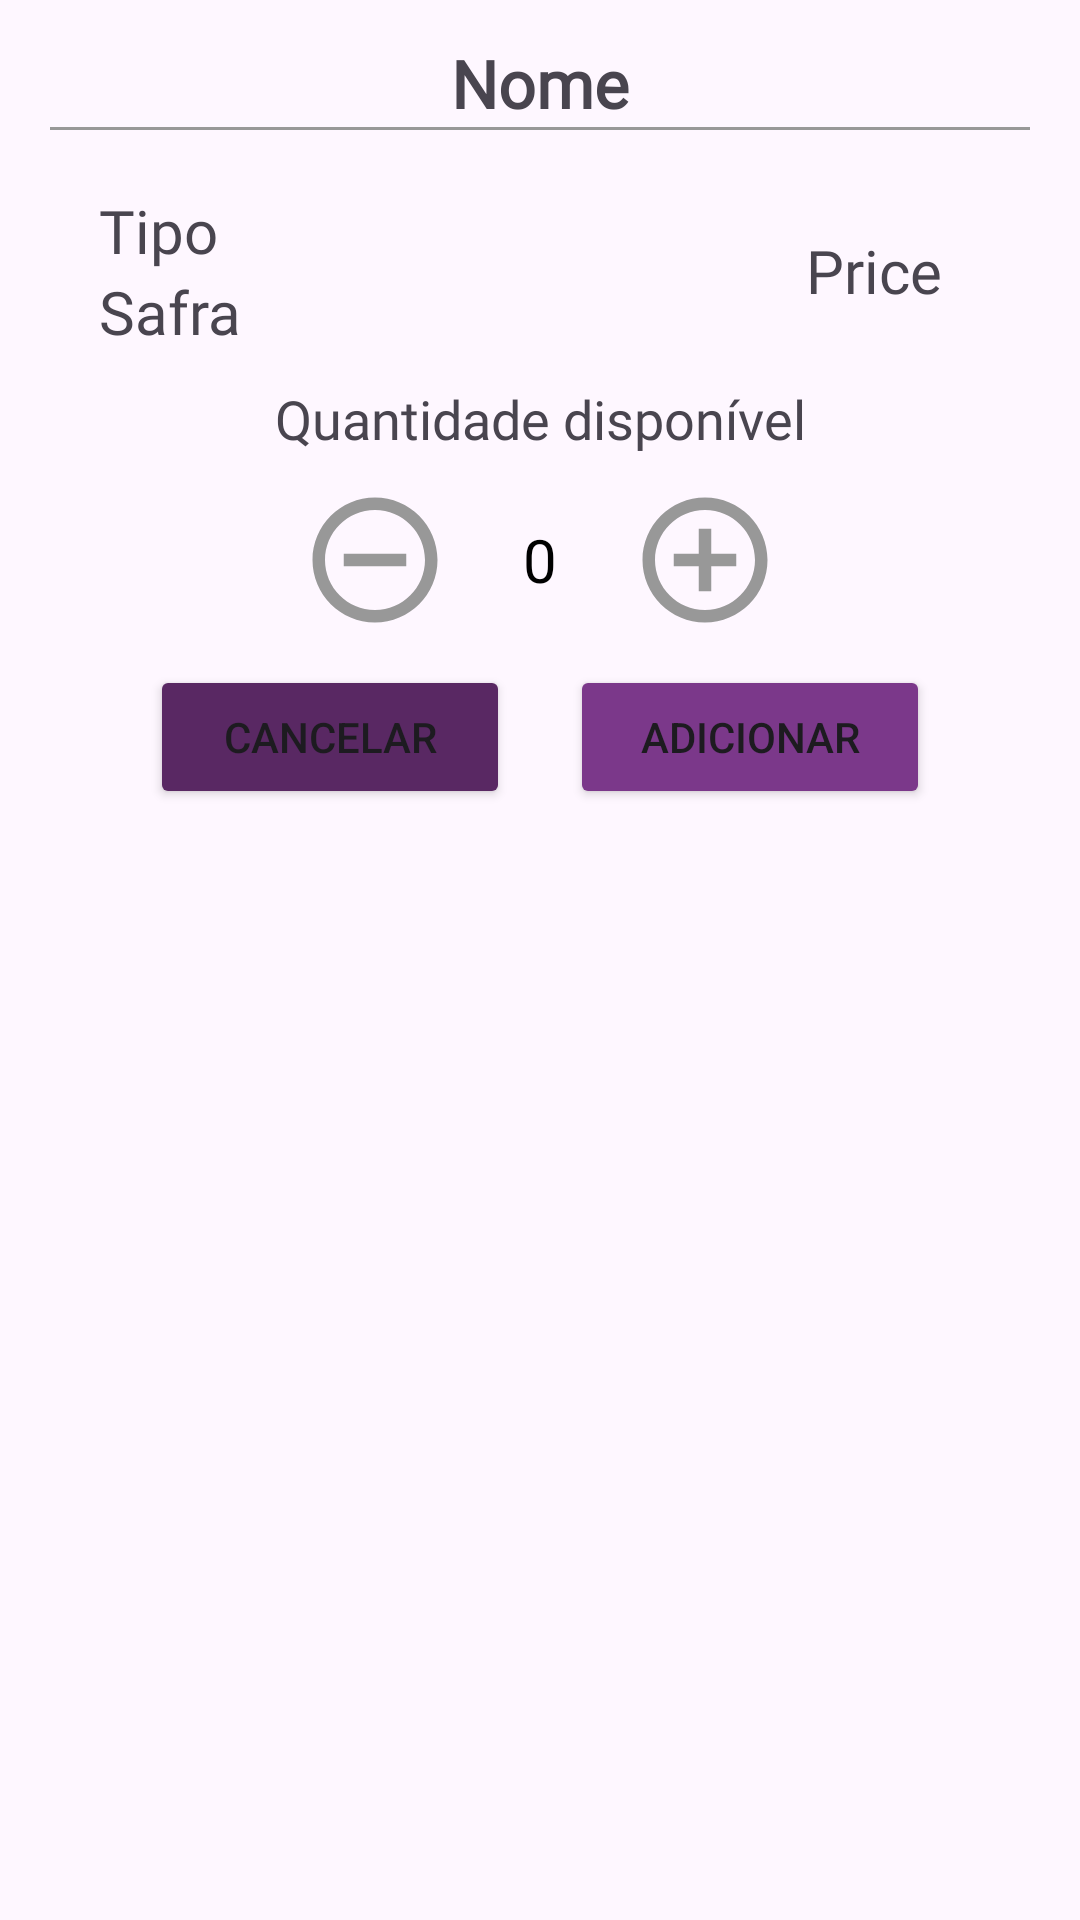

Where icons sit on this 1080*1920 app screen, as (x1, y1, x2, y2):
add circle: (642, 497, 768, 623)
remove circle: (312, 497, 438, 623)
